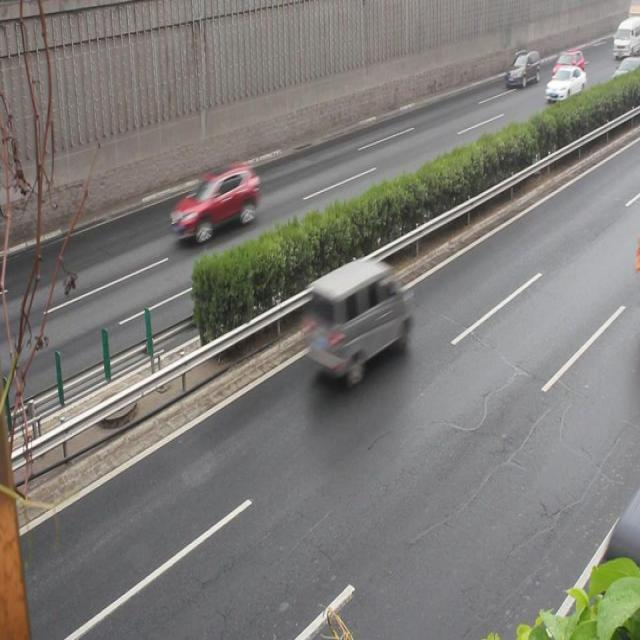car: (170, 160, 259, 241), (542, 64, 584, 104), (503, 48, 537, 86)
